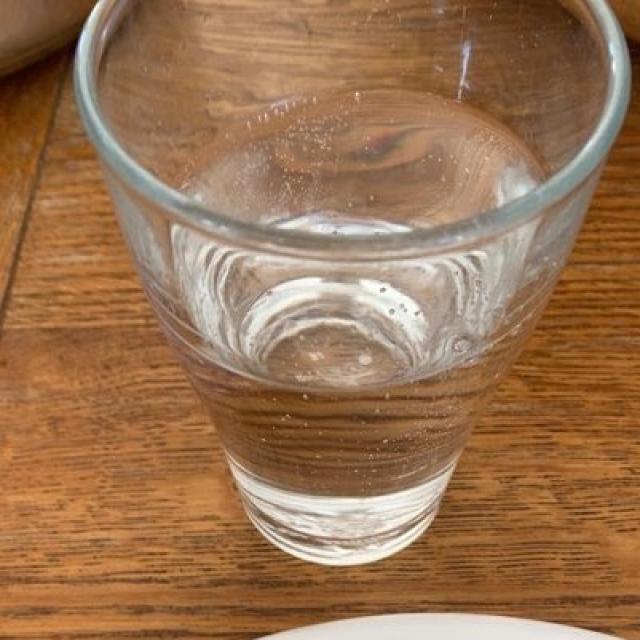water: (154, 87, 542, 573)
